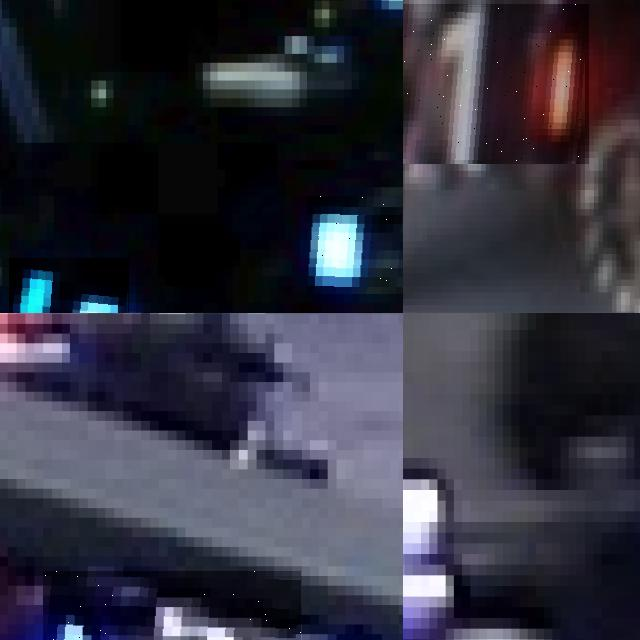B5: (43, 571, 301, 640)
Bs: (306, 196, 403, 294), (9, 258, 128, 313)
R1: (403, 4, 589, 164)
